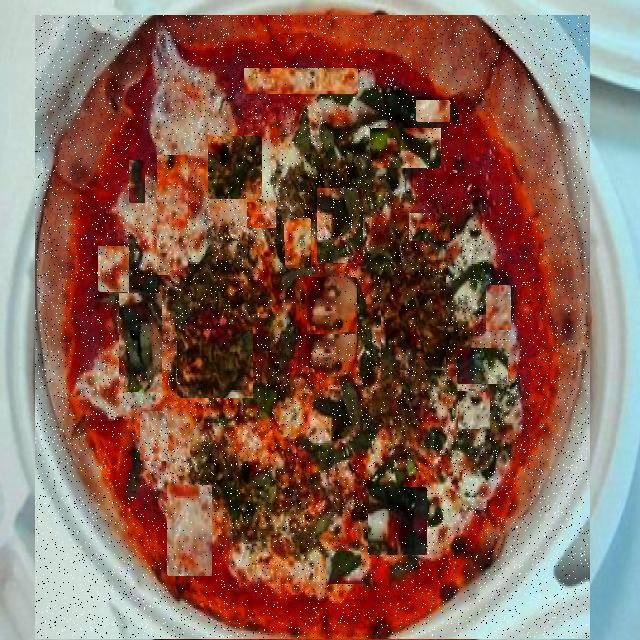Basil: (278, 405, 375, 509), (382, 276, 446, 370), (246, 242, 302, 334), (178, 330, 253, 398), (120, 294, 162, 392), (369, 488, 427, 555), (318, 189, 363, 263), (209, 137, 262, 199), (371, 129, 441, 168), (458, 349, 508, 384), (369, 152, 413, 191), (369, 372, 402, 416), (327, 552, 361, 584), (410, 214, 450, 241), (130, 161, 145, 203)
Cheese: (168, 486, 212, 576), (158, 156, 188, 275), (245, 69, 358, 94), (99, 247, 129, 292), (141, 412, 168, 461), (285, 219, 311, 268), (459, 392, 490, 429), (487, 286, 511, 330), (448, 146, 482, 170), (248, 203, 276, 228), (417, 101, 450, 122)
Mushrooms: (308, 278, 357, 334)
Pizza: (35, 16, 589, 638)
